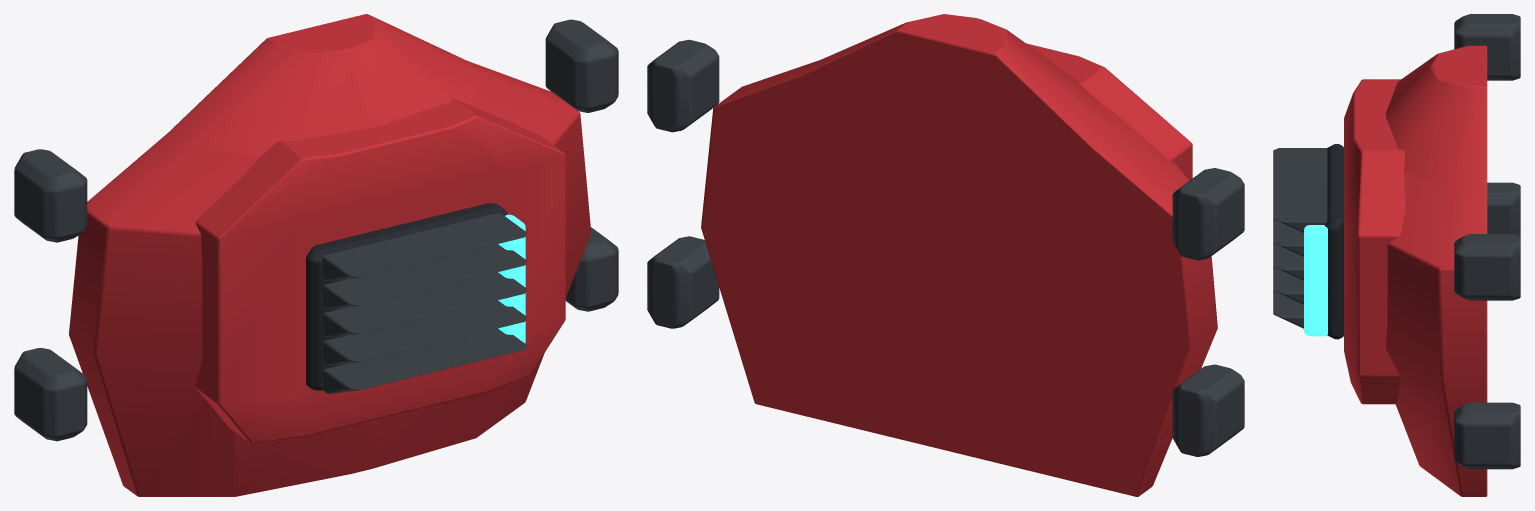
Rendered from ShoulderBack_Set03_Overclock.fbx.
3 renders of one model, left to right at view 1: azimuth 30°, elevation 25°; view 2: azimuth 150°, elevation 25°; view 3: azimuth 270°, elevation 25°, orthographic. The views are drawn at different scales.
Parts seen in each view (by area): view 1: ShoulderBack_Set03_Overclock; view 2: ShoulderBack_Set03_Overclock; view 3: ShoulderBack_Set03_Overclock.
Part boxes in pixels (x1,y1,x2,y2): ShoulderBack_Set03_Overclock: (14, 14, 618, 496); ShoulderBack_Set03_Overclock: (647, 14, 1244, 496); ShoulderBack_Set03_Overclock: (1273, 14, 1520, 496).
Size of the model in its own units: 0.51 by 0.35 by 0.2234.
